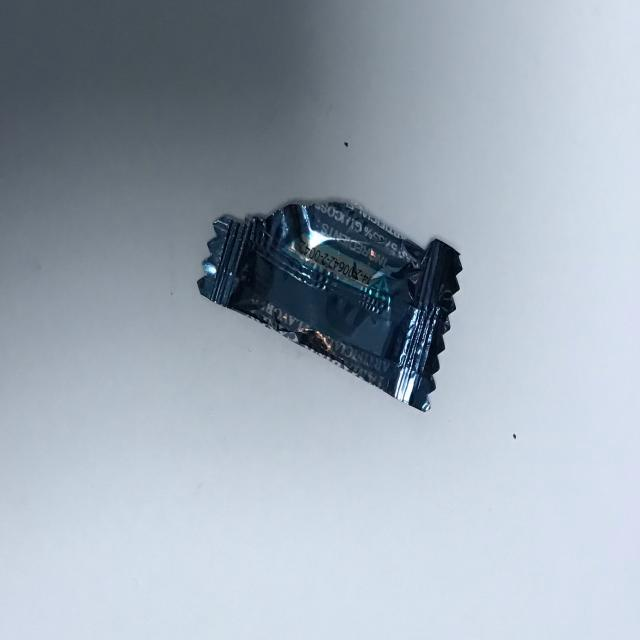plastic: (176, 166, 472, 470)
